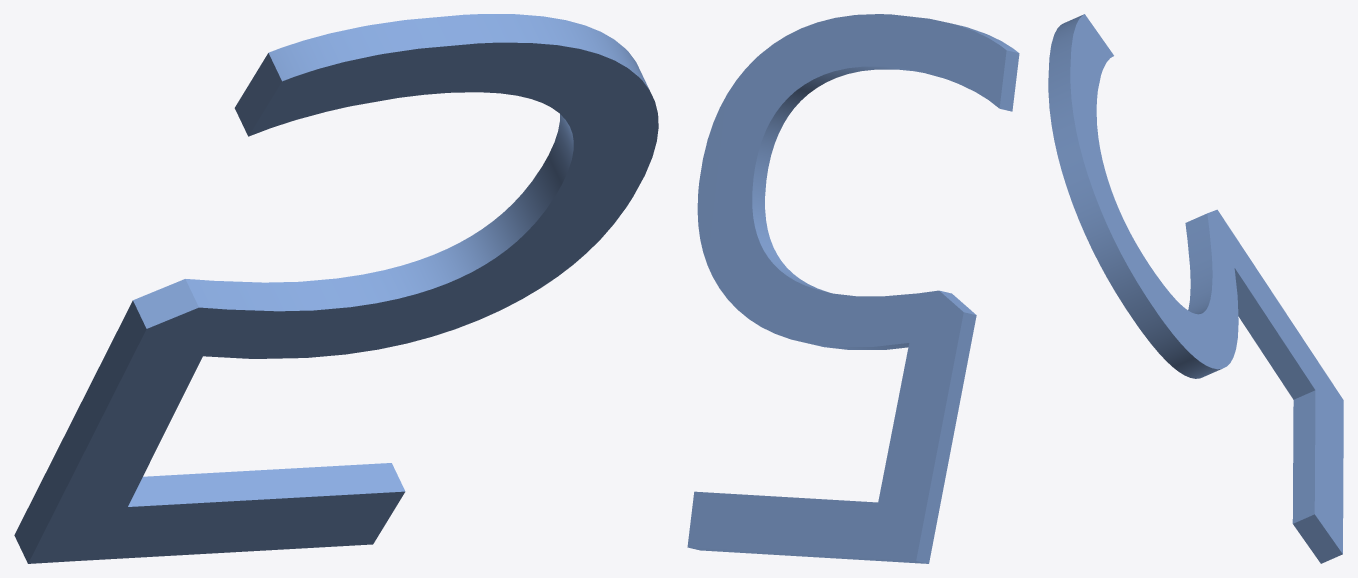
Rendered from New_Number_5.gltf.
The picture shows the model from 3 angles, left to right: view 1: azimuth 30°, elevation 25°; view 2: azimuth 150°, elevation 25°; view 3: azimuth 270°, elevation 25°; orthographic projection. The views are drawn at different scales.
Visible parts, largest first — view 1: Part 572; view 2: Part 572; view 3: Part 572.
Boxes of the visible parts, left/top/right/bottom form: Part 572: left=14, top=14, right=658, bottom=563; Part 572: left=687, top=14, right=1019, bottom=563; Part 572: left=1048, top=14, right=1343, bottom=563.
Bounding box in the file's own units: 0.00368 × 0.00524 × 0.00301.
